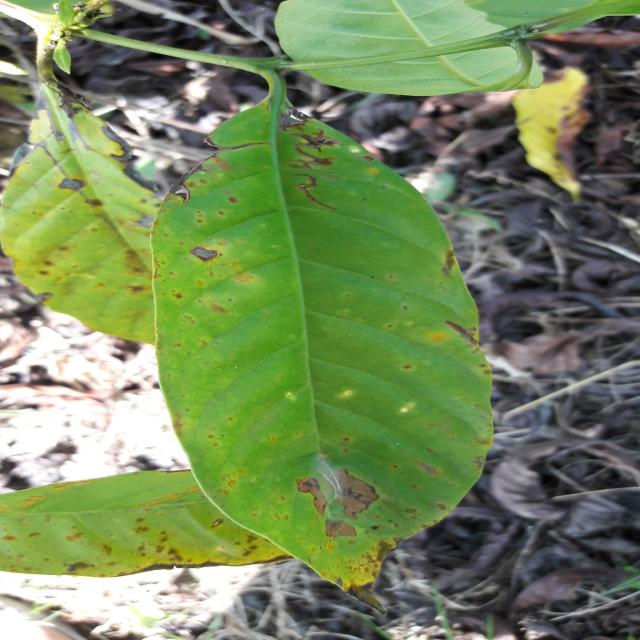Enfermedad-Roya: (142, 102, 490, 601)
